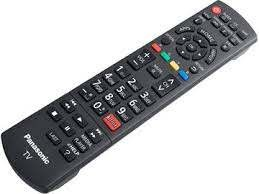remote control: (0, 0, 259, 194)
